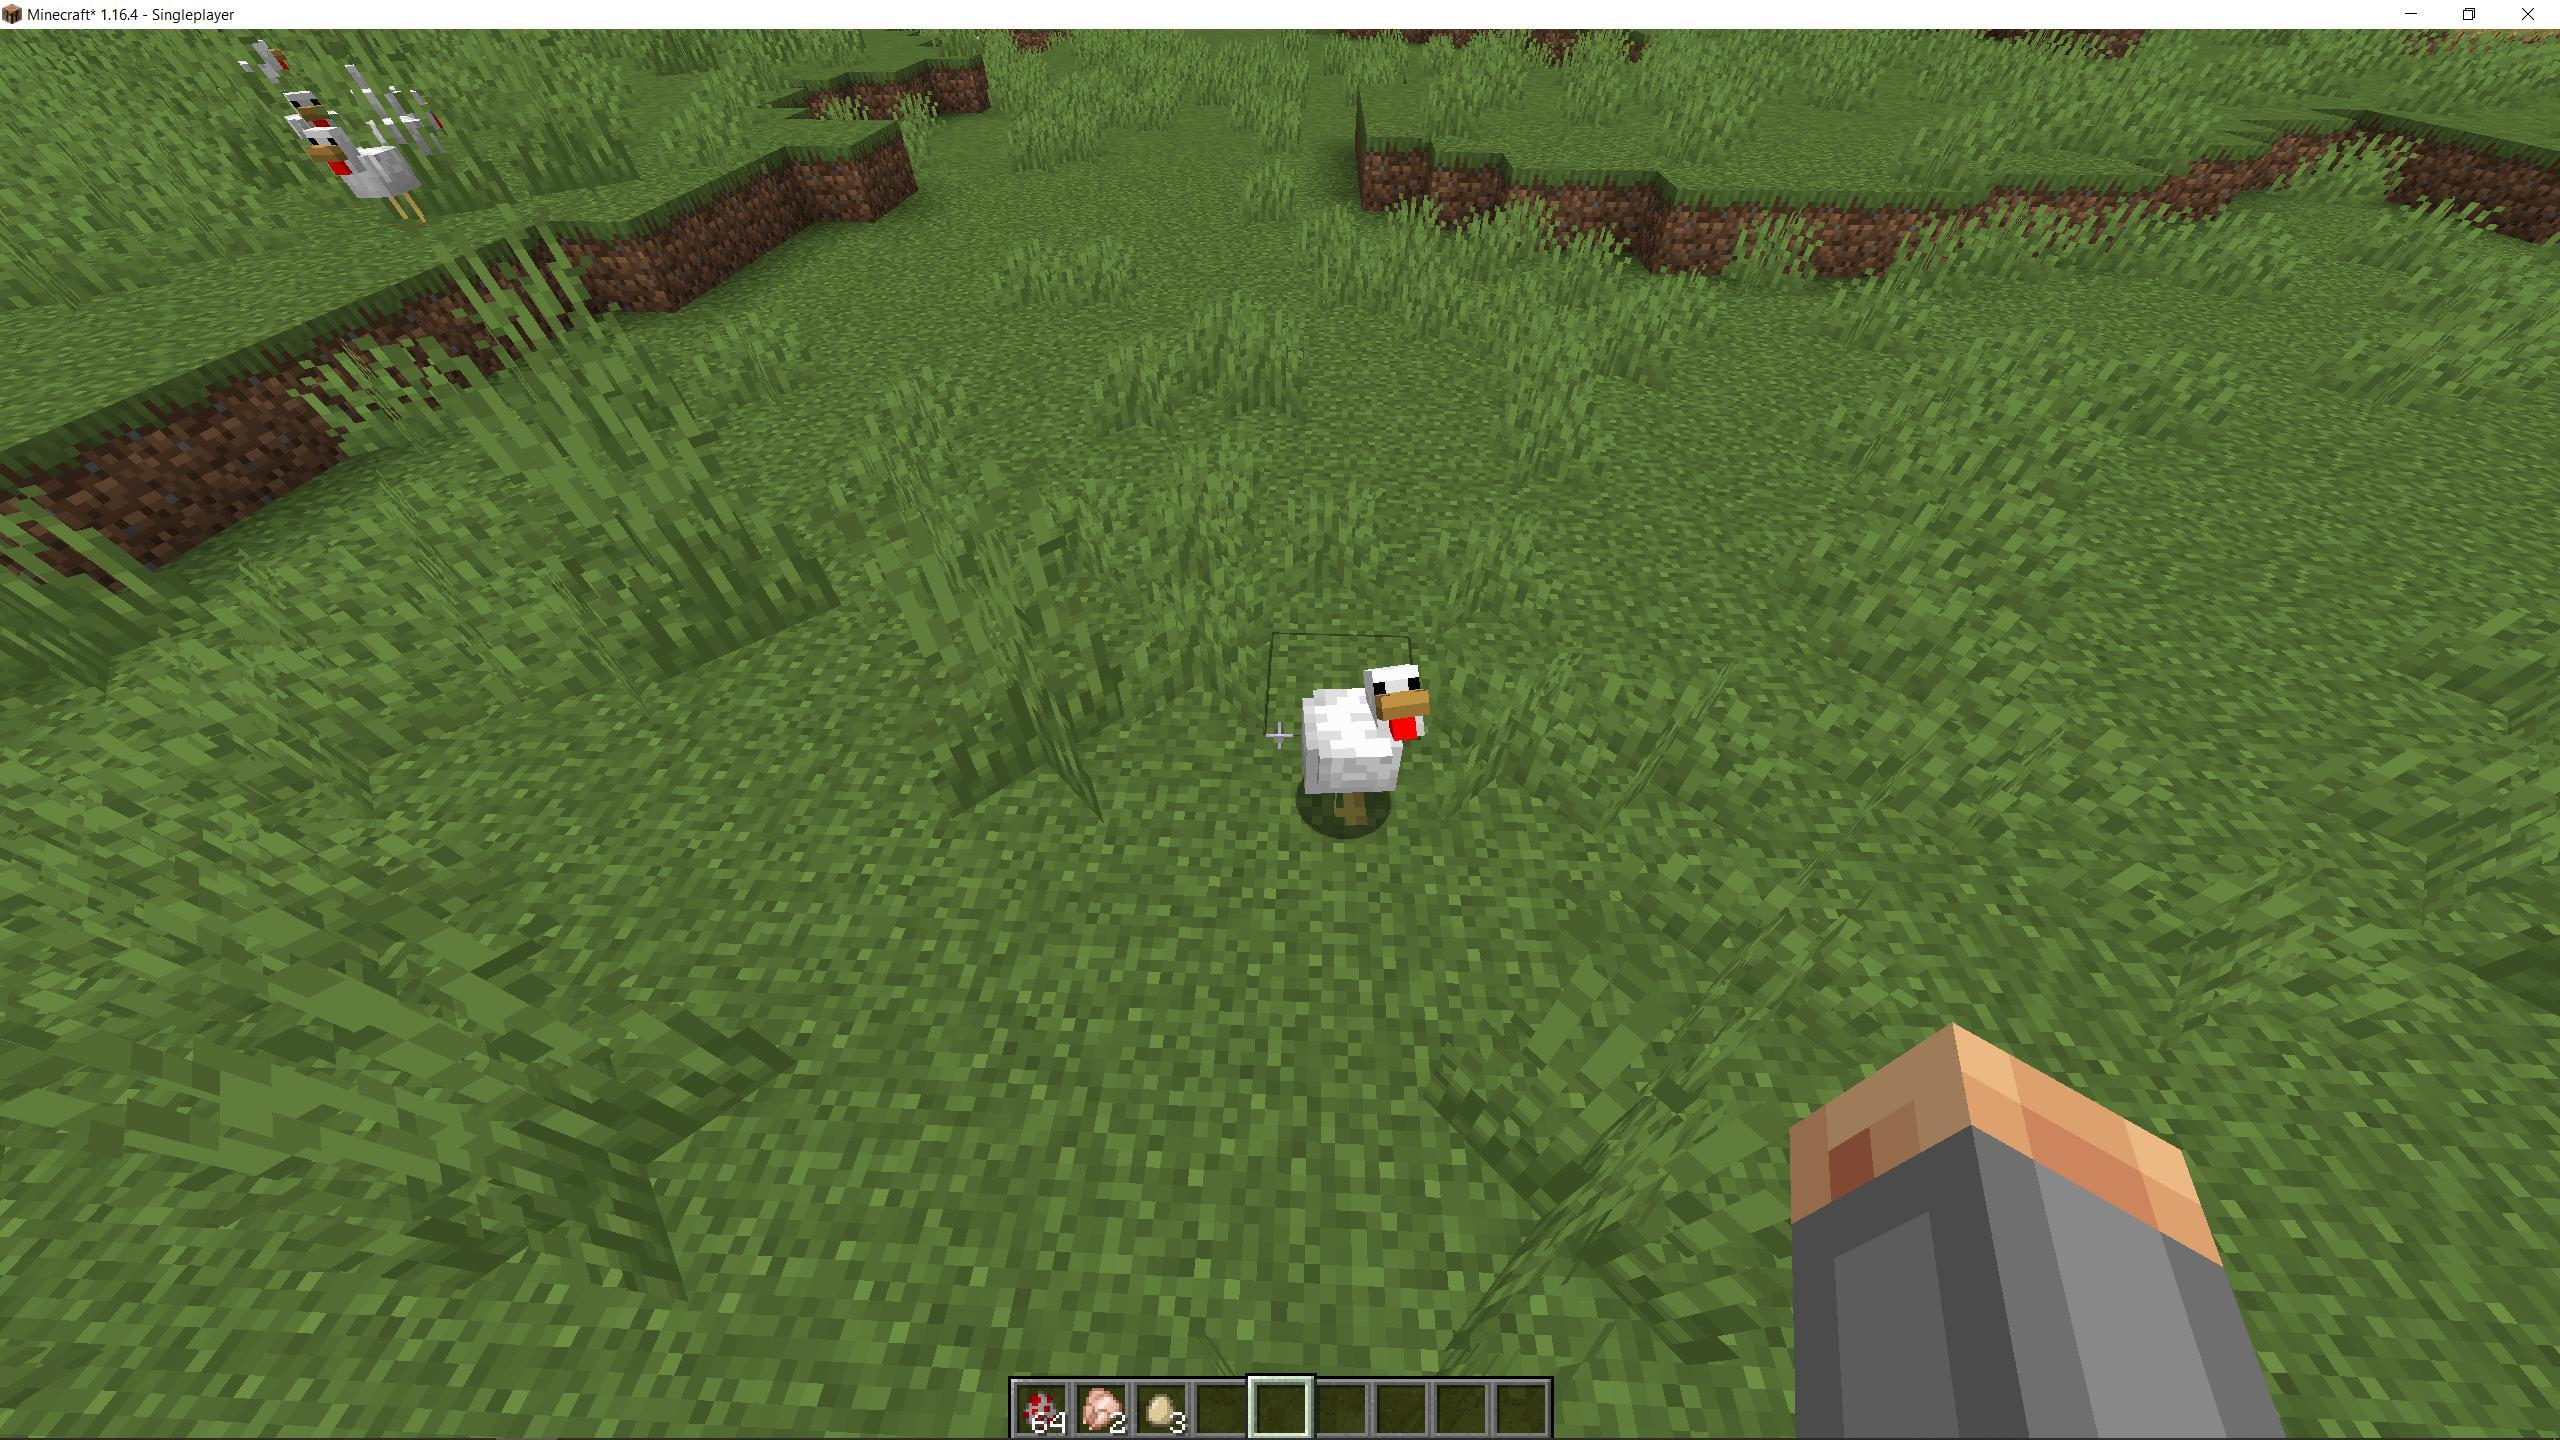chicken: (1292, 656, 1440, 835), (297, 123, 447, 227), (331, 58, 433, 118), (211, 33, 294, 86), (269, 88, 346, 141)
